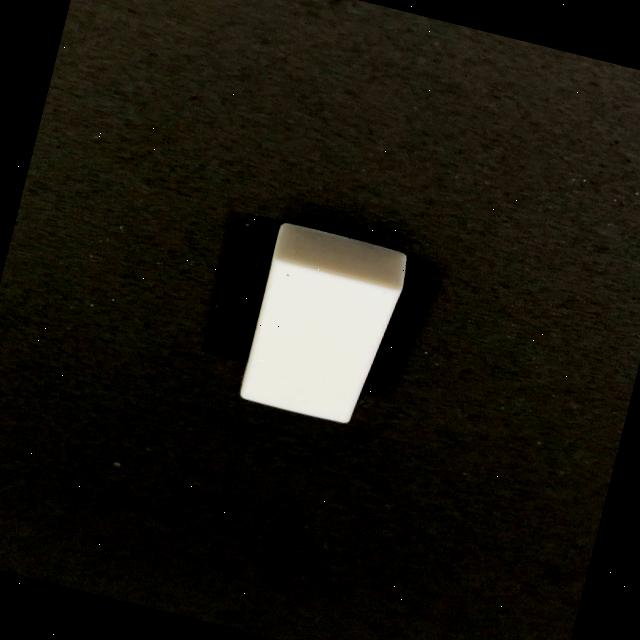Eraser: (163, 177, 455, 488)
